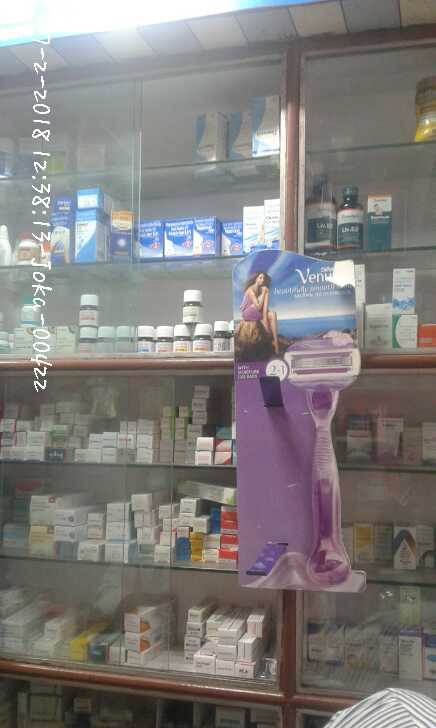reject: (100, 333, 173, 404)
